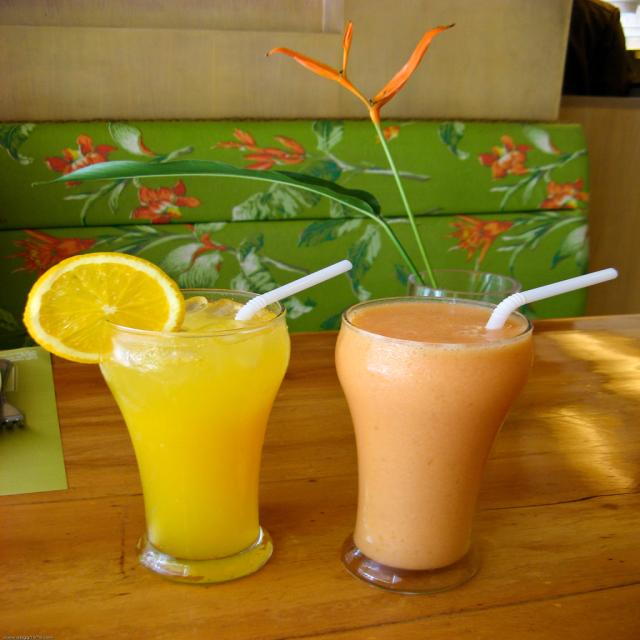Lemon: (19, 253, 188, 365)
